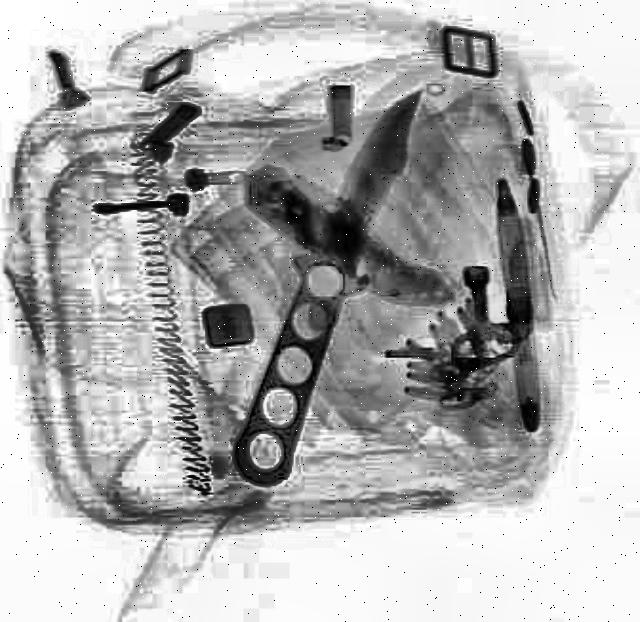Knife: (228, 76, 436, 489), (229, 150, 477, 326)
